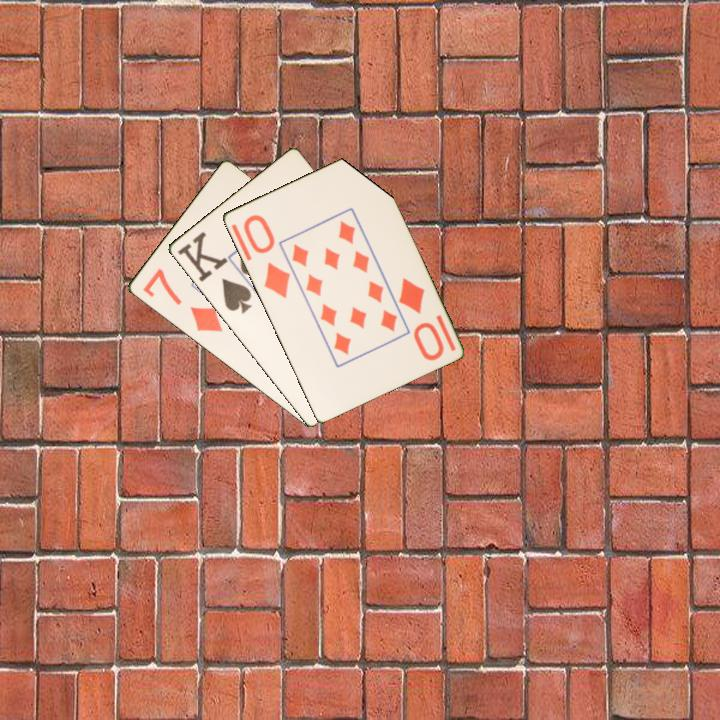10d: (239, 211, 293, 301), (395, 274, 447, 364)
7d: (139, 265, 225, 335)
Ks: (173, 228, 254, 317)
